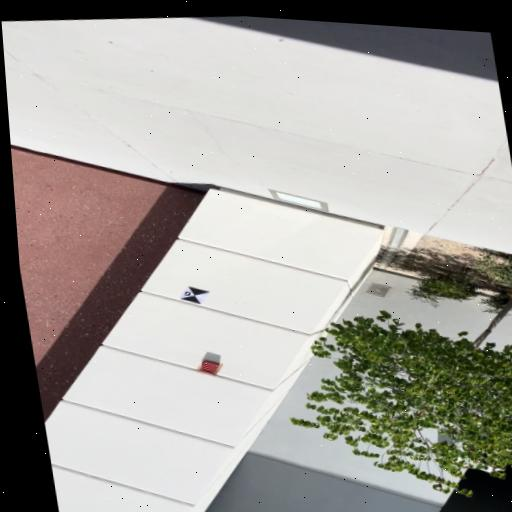target6: (179, 286, 210, 304)
